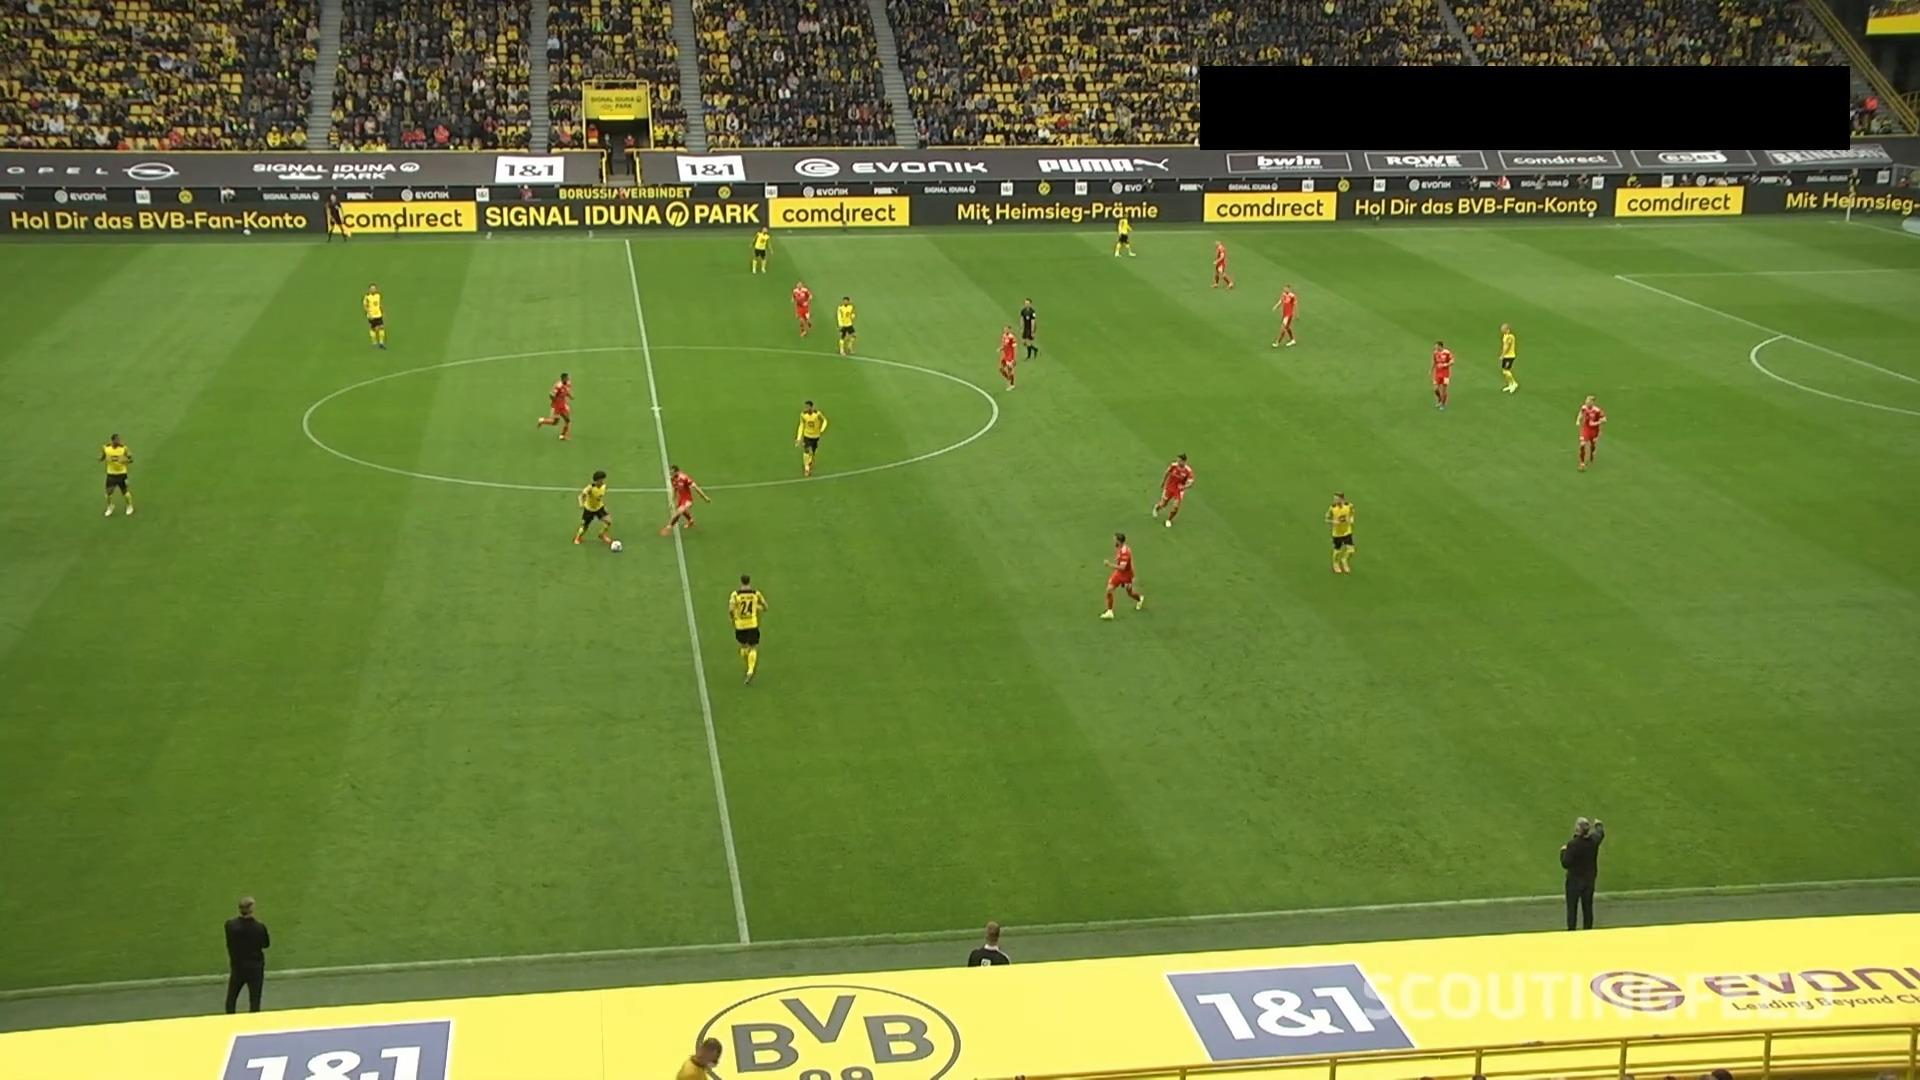ball: (609, 539, 624, 554)
